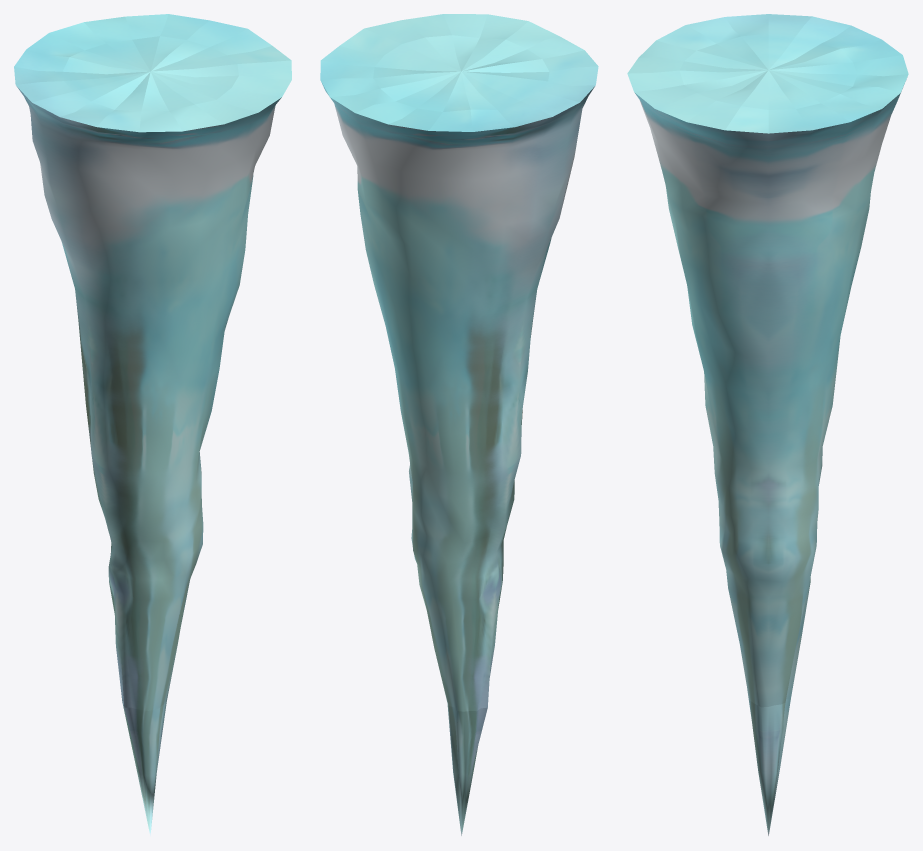
Rendered from Tsurara.fbx.
3 views of the same model, side by side, from view 1: azimuth 30°, elevation 25°; view 2: azimuth 150°, elevation 25°; view 3: azimuth 270°, elevation 25° (orthographic).
Visible parts, largest first — view 1: pCone1; view 2: pCone1; view 3: pCone1.
Part boxes in pixels (<box>): pCone1: <box>14,14,291,836</box>; pCone1: <box>320,14,598,835</box>; pCone1: <box>627,14,908,835</box>.
Size of the model in its own units: 5.46 by 16.59 by 5.52.
